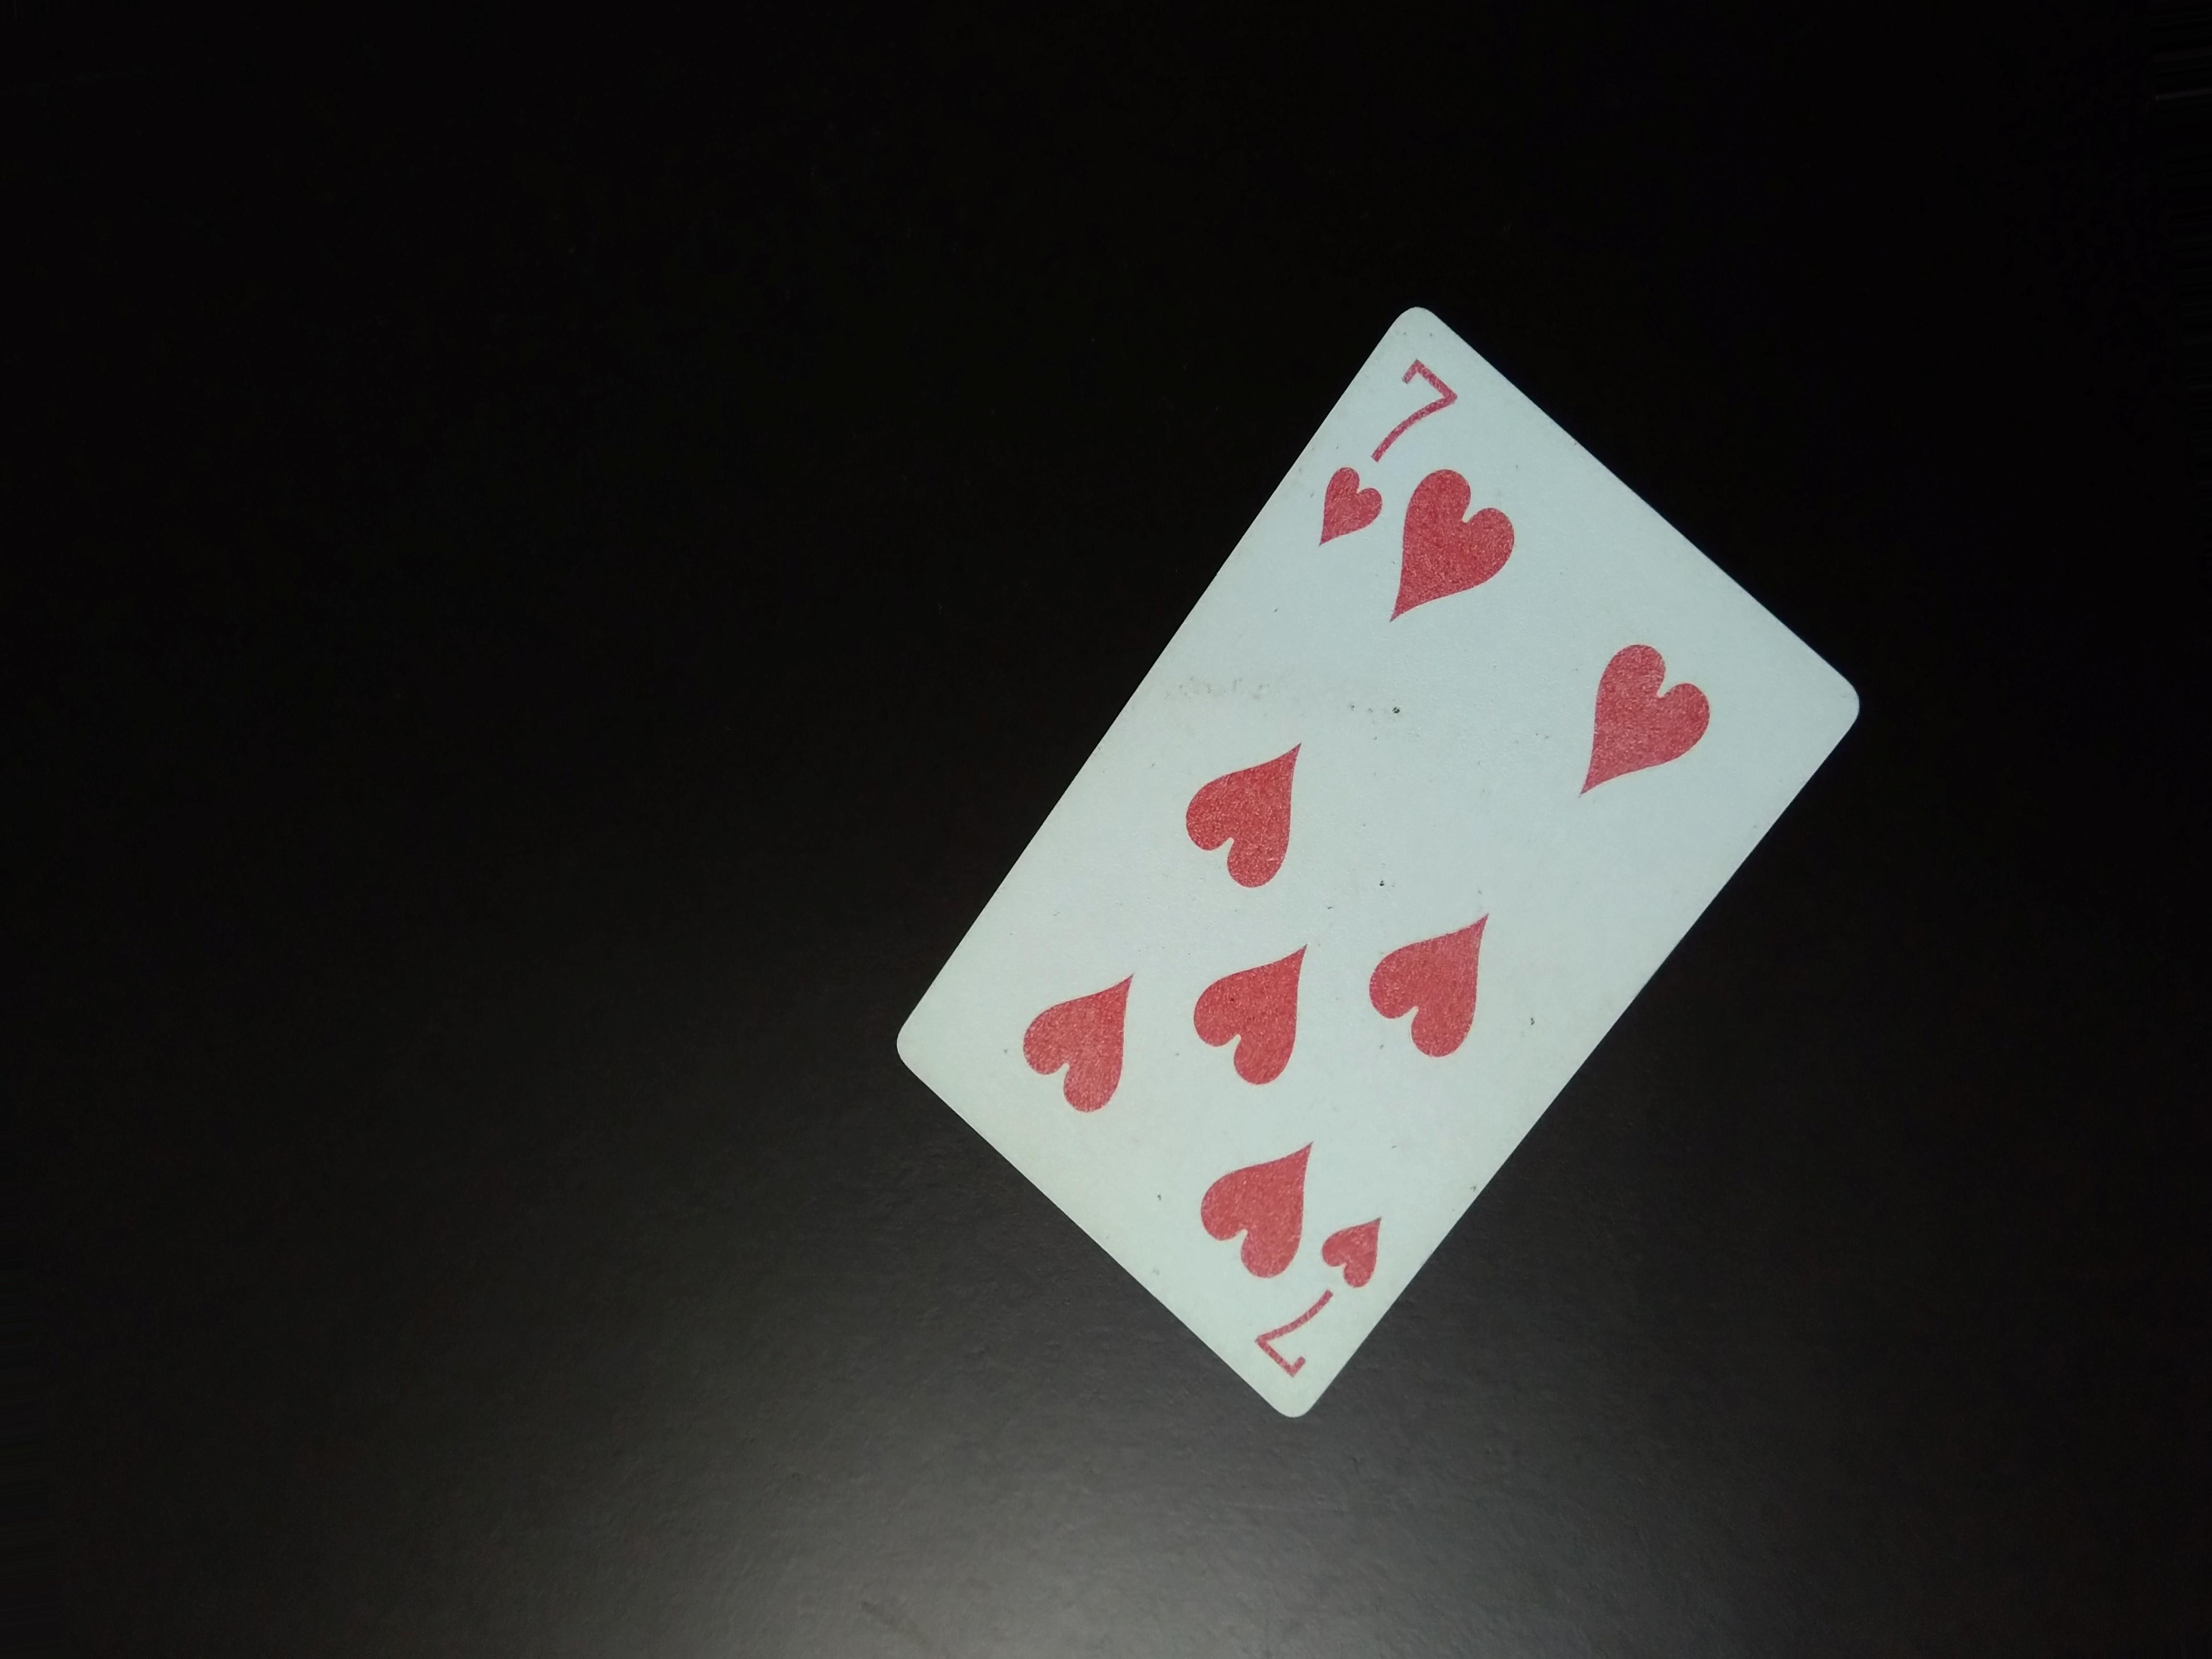7H: (1310, 357, 1449, 549)
